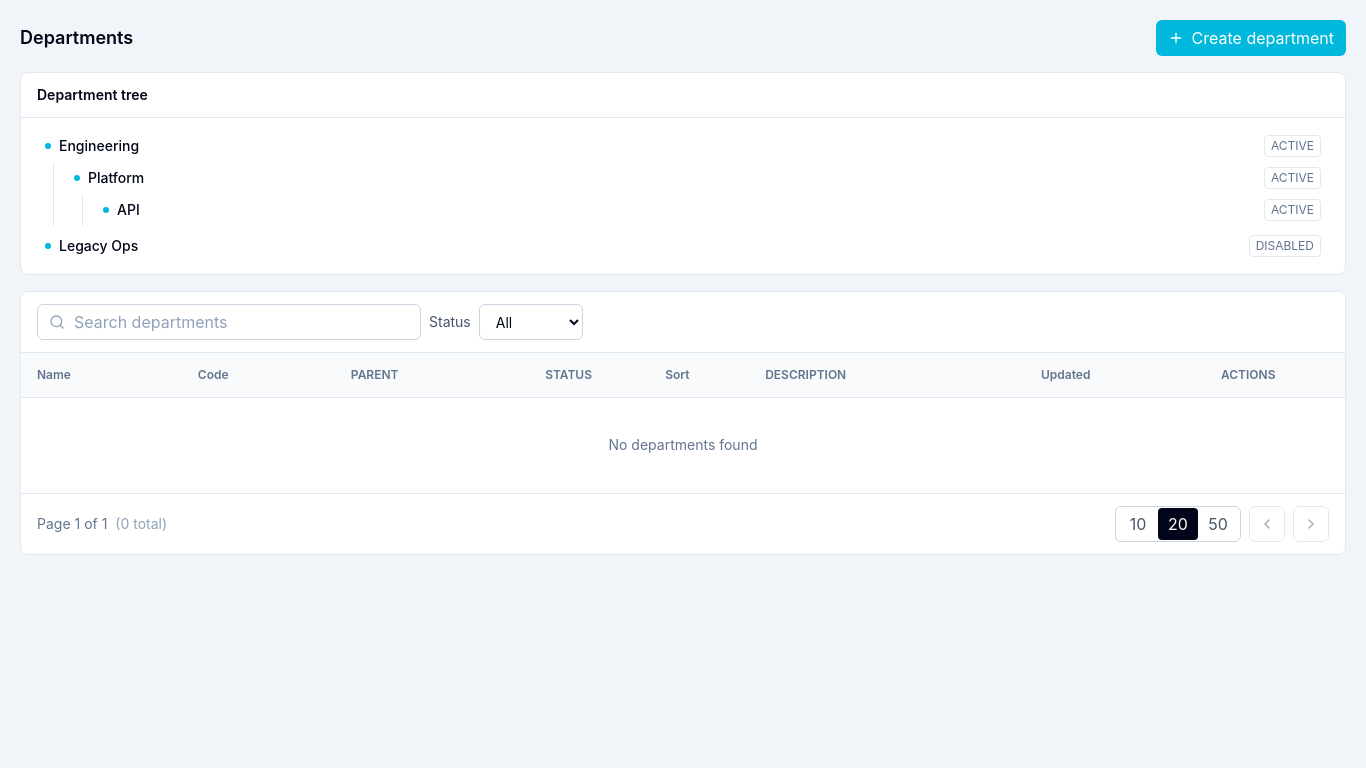
Test: DepartmentsPage › rejects negative sort order and prevents submit
expect the text "No departments found" is shown: met, box [21,397,1345,493]
Click the button "Create department" at (1251, 38), box [1156,20,1346,56]
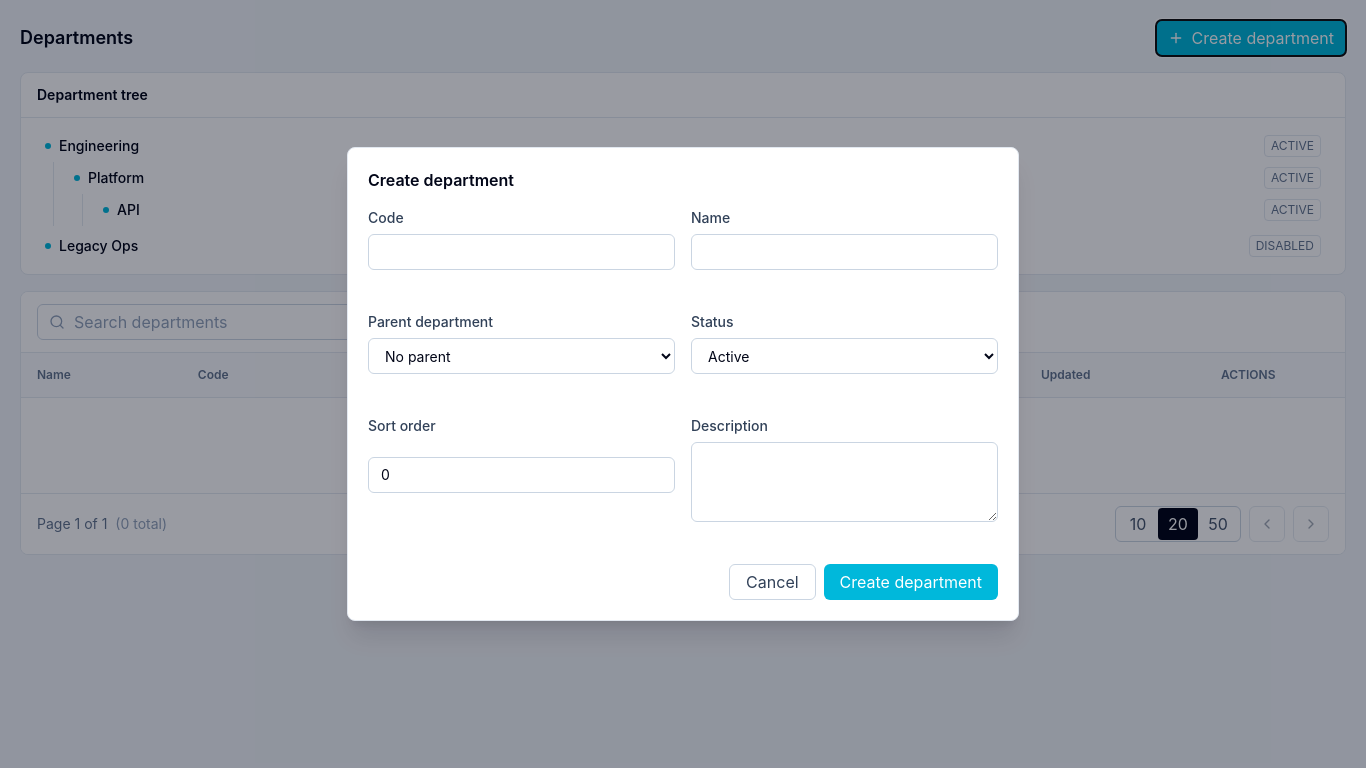
Type "engineering" into the field labelled "Code" at (522, 252), box [368,234,675,270]
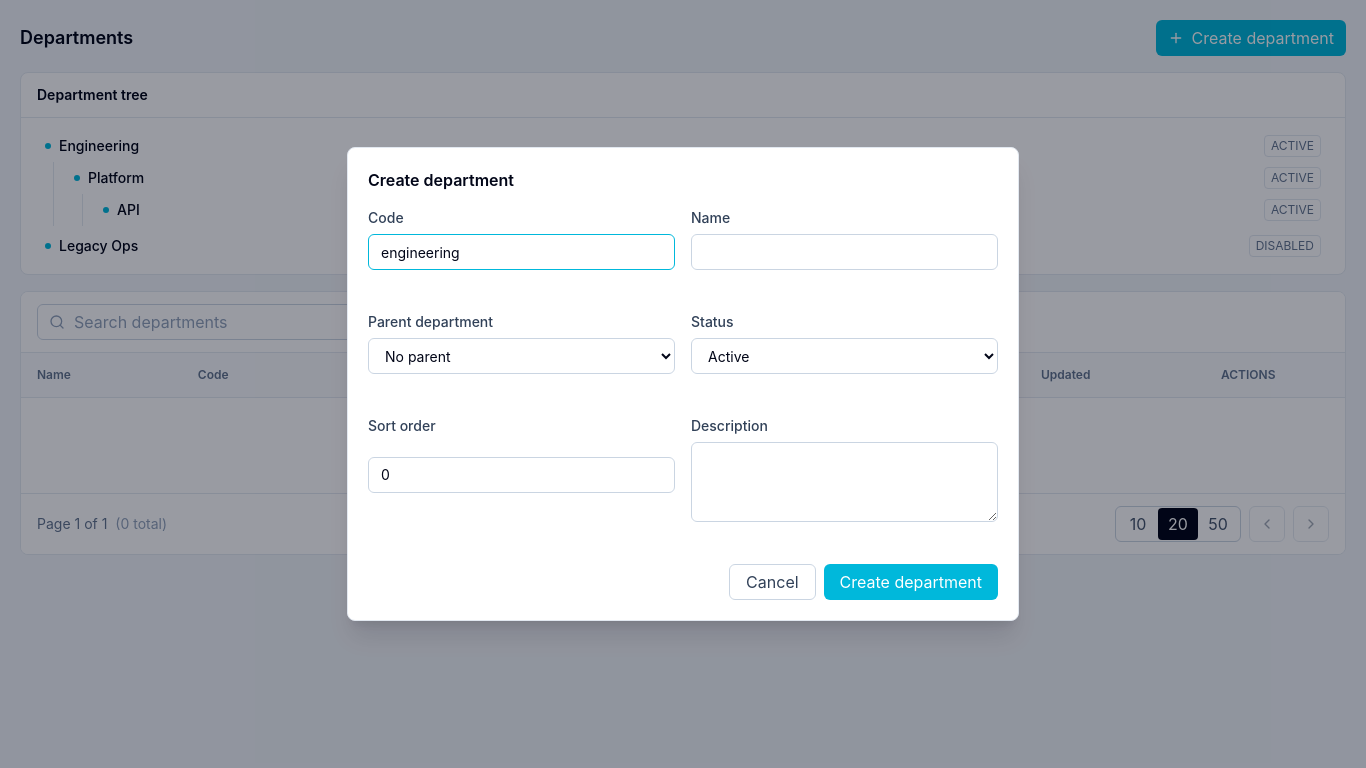
Type "Engineering" into the field labelled "Name" at (844, 252), box [691,234,998,270]
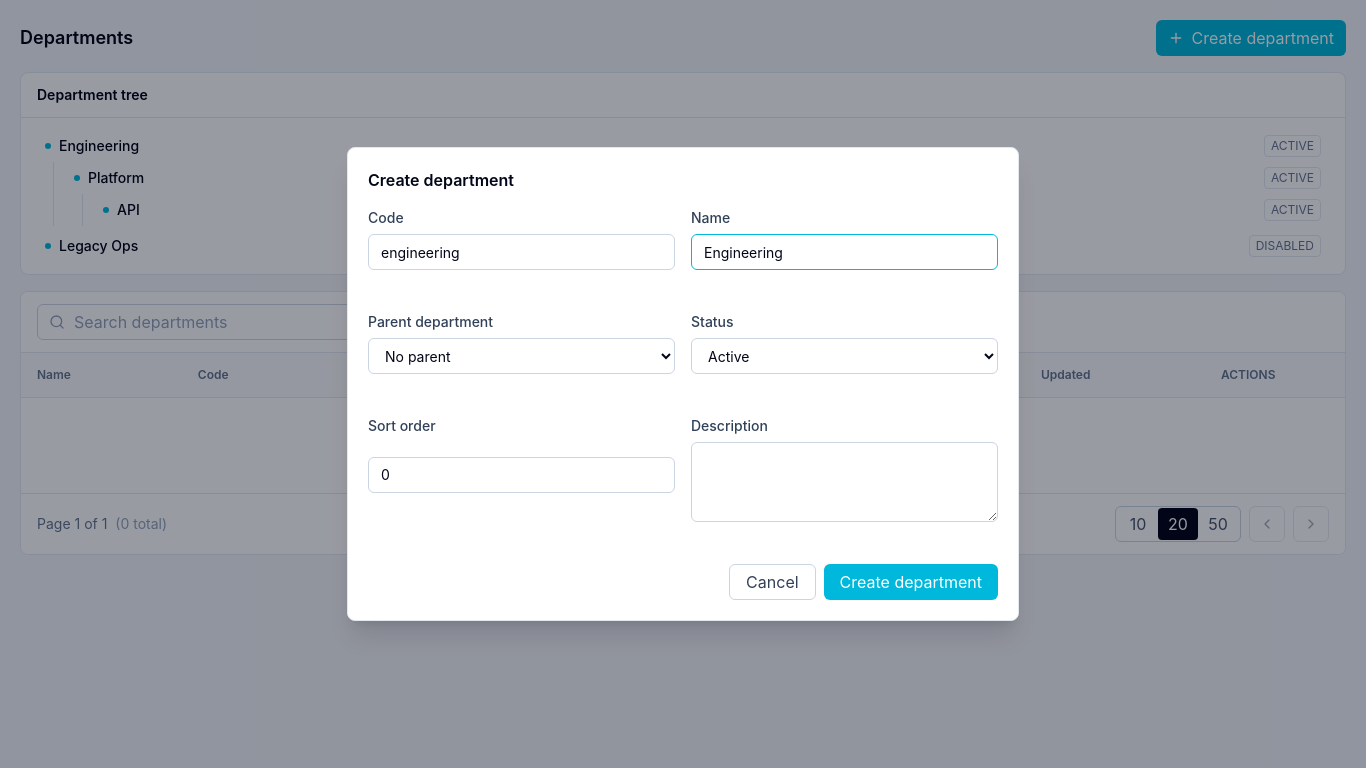
Replace the text in the number field labelled "Sort order" with "-1" at (522, 475), box [368,457,675,493]
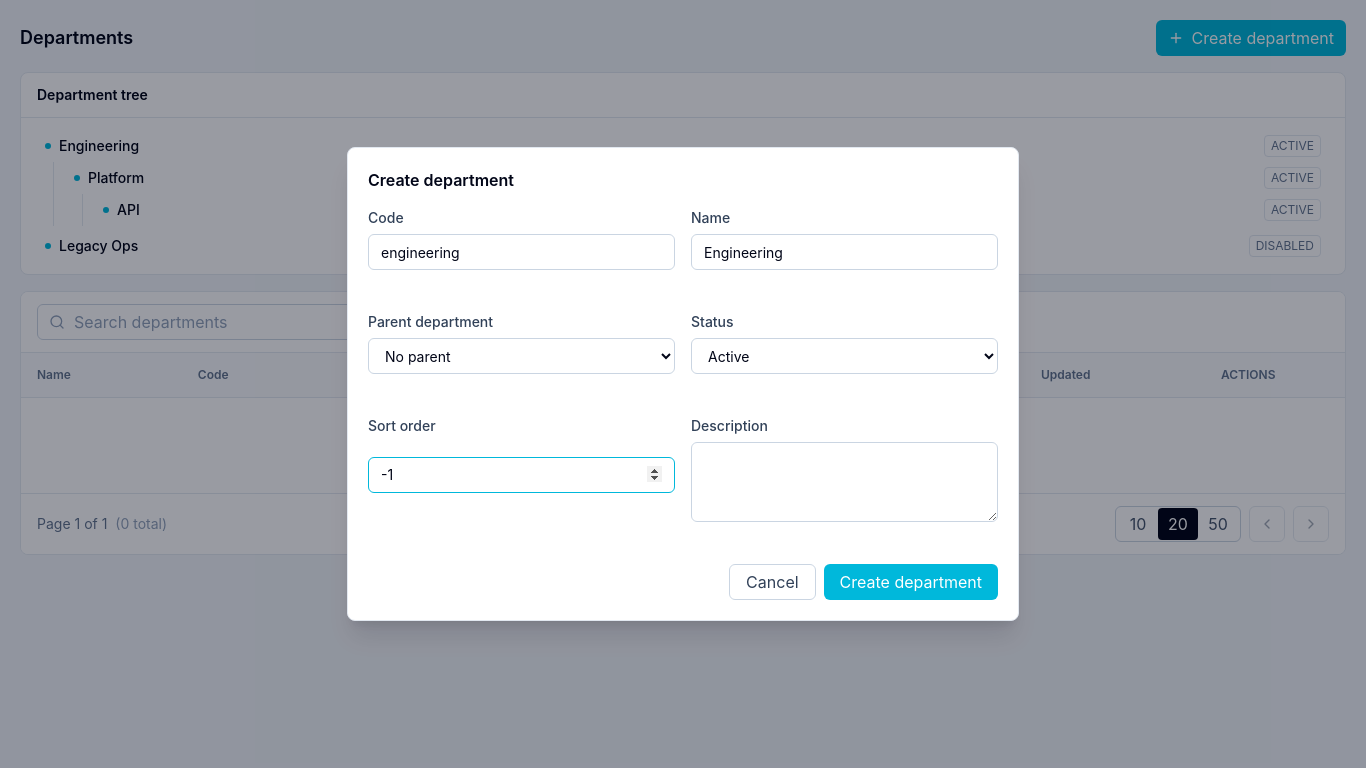
Click the button "Create department" at (911, 582), box [824,564,998,600]
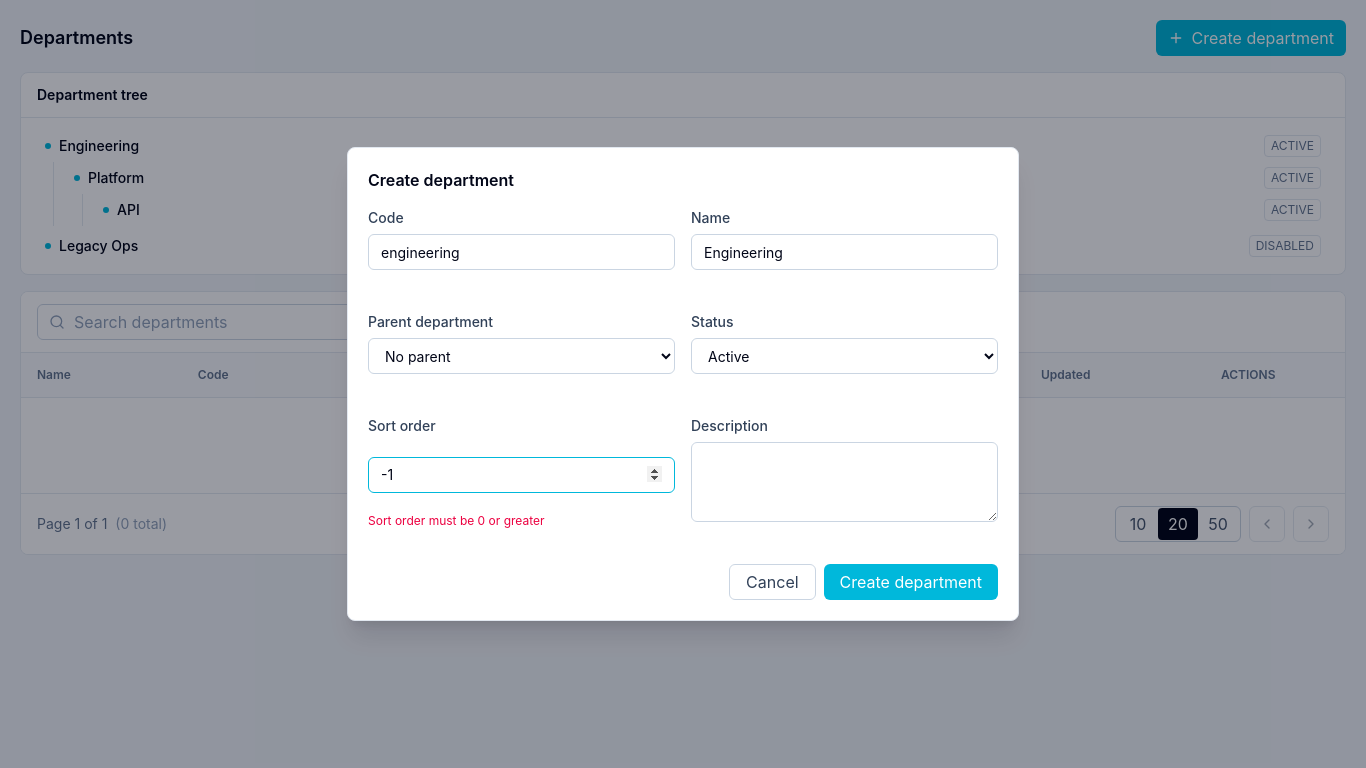
expect the text "Sort order must be 0 or greater" is shown: met, box [368,513,544,528]
